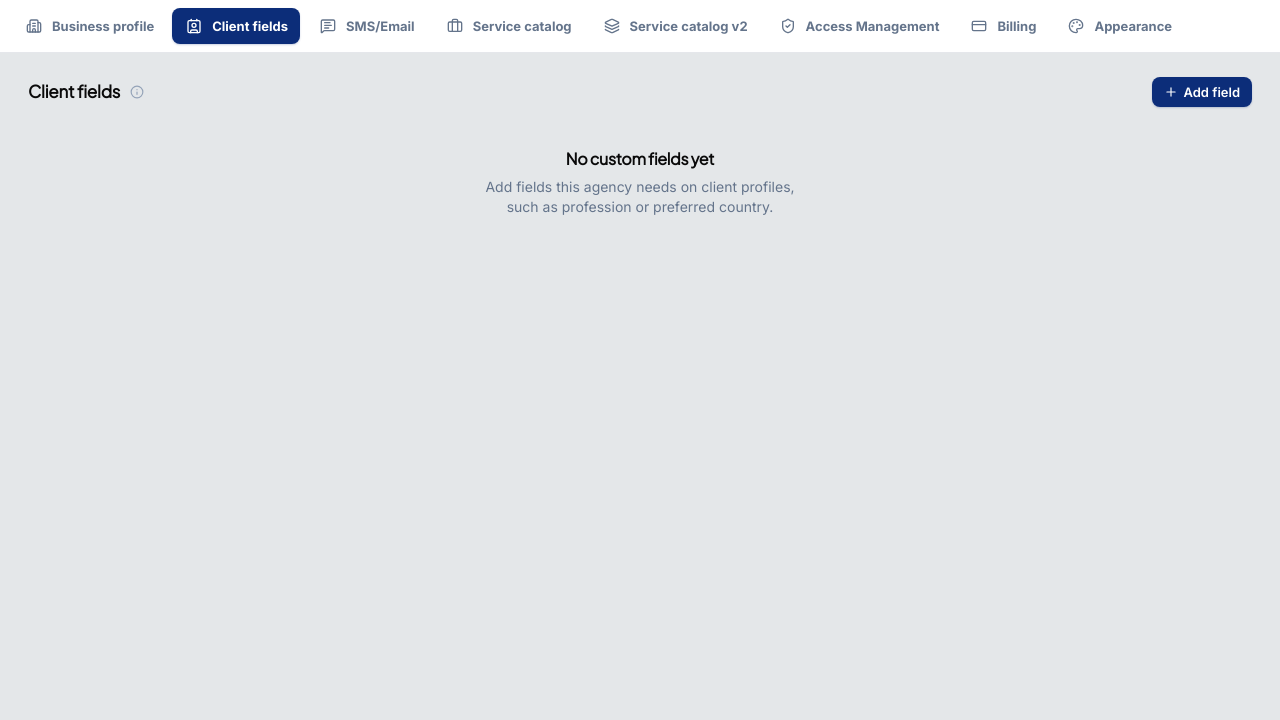
it: settings service catalog › opens add-field in a right panel and creates the field
Expected: the heading "Client fields" is shown, left=28, top=79, right=120, bottom=105
Click the button "Add field": (1202, 92) left=1152, top=77, right=1252, bottom=107
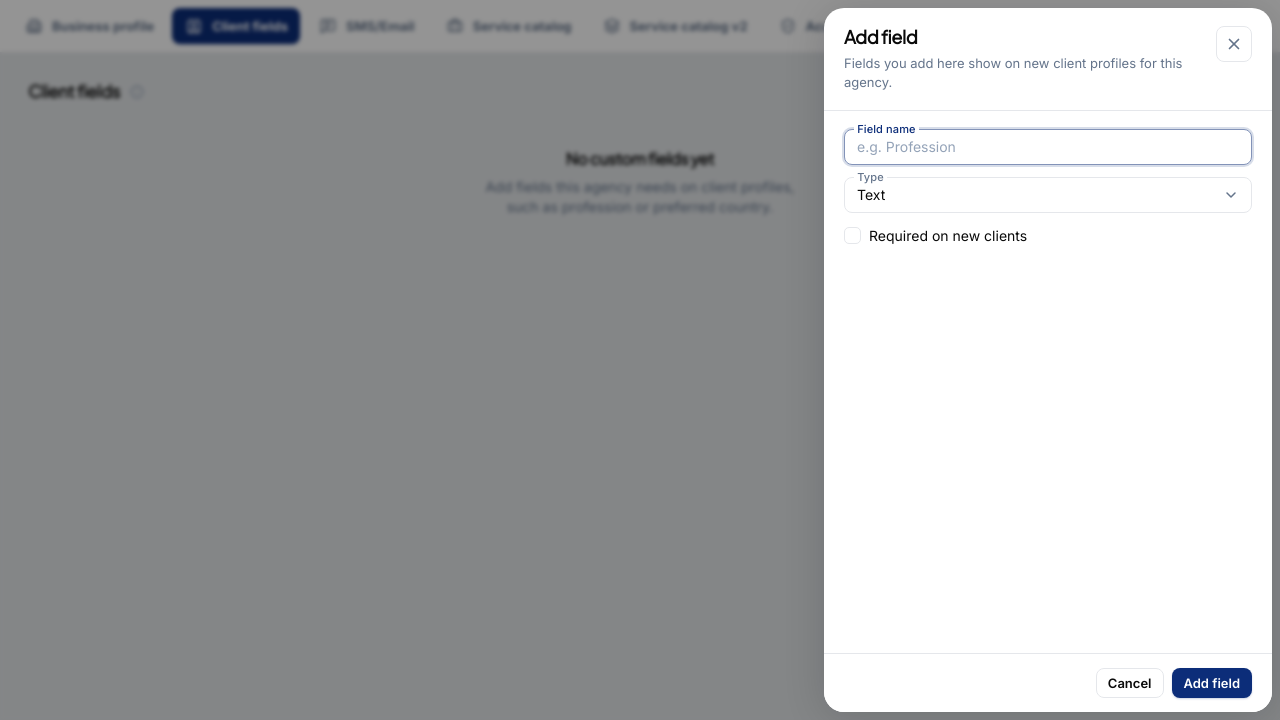
Expected: the dialog "Add field" is shown, left=824, top=8, right=1272, bottom=712
In the field labelled "Field name": (1048, 147) left=844, top=129, right=1252, bottom=165, type "Profession"
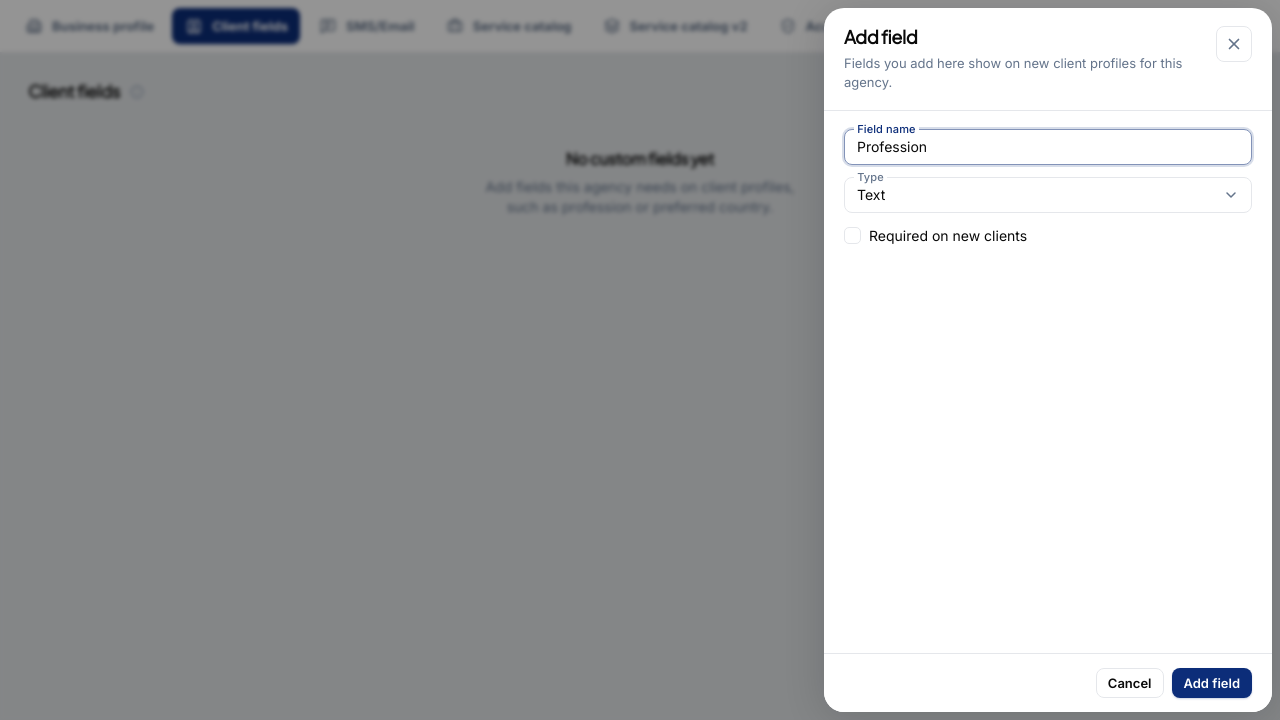
Click the button "Add field": (1212, 683) left=1172, top=668, right=1252, bottom=698
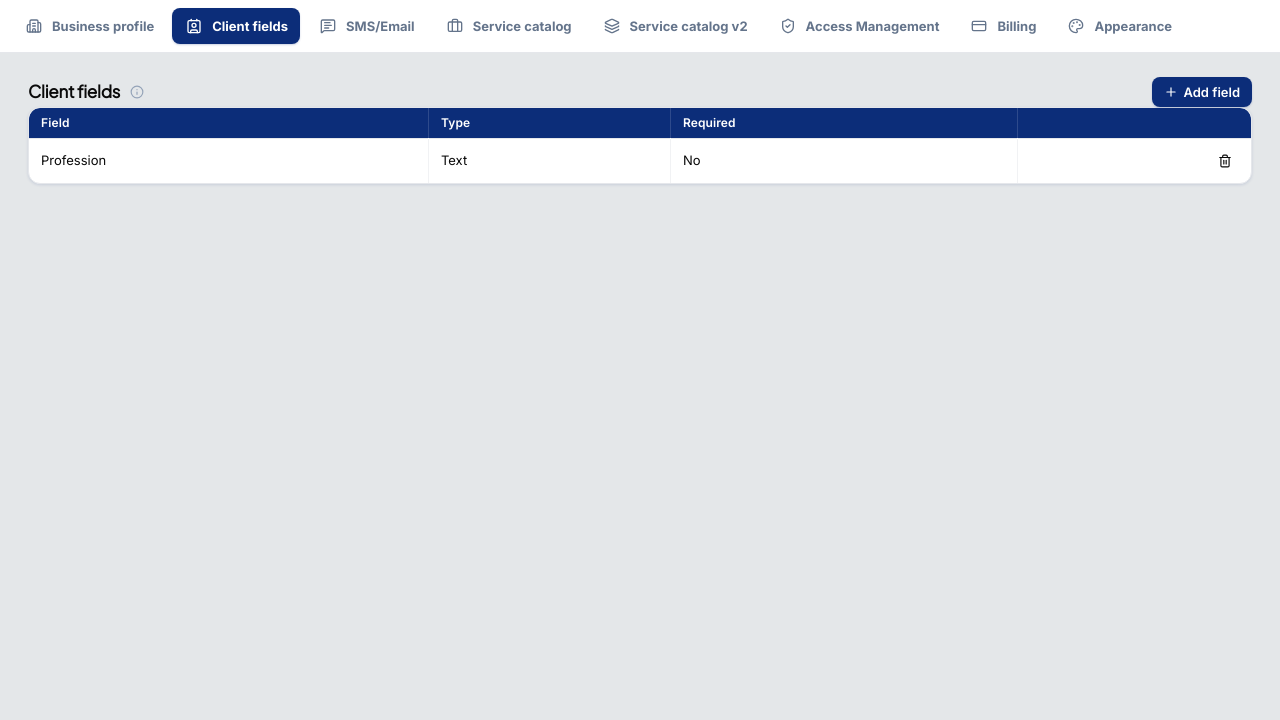
Expected: the text "Profession" is shown, left=29, top=138, right=428, bottom=183
Expected: the table named "Client fields" is shown, left=29, top=108, right=1251, bottom=183
